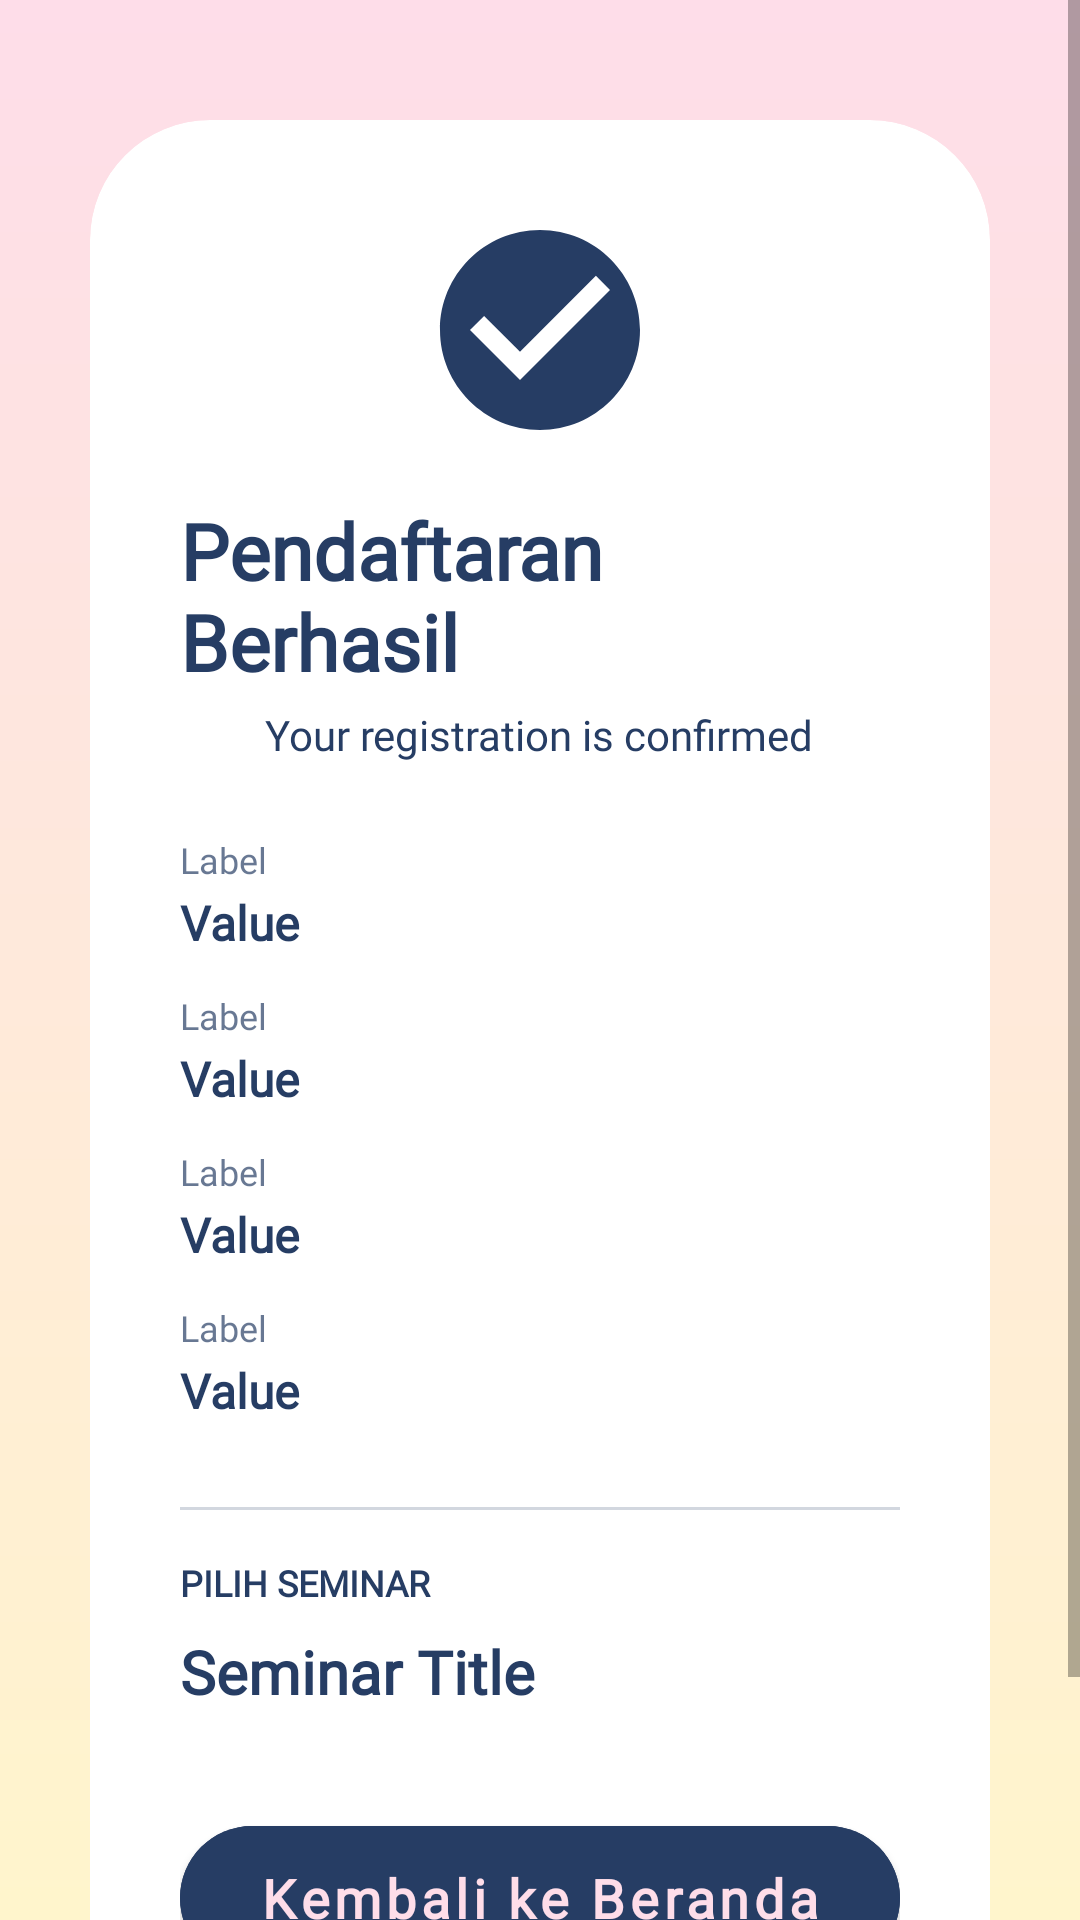

Where icons sit on this 1080*1920 app screen, as rect(x1, y1, x2, y2):
Success: rect(440, 230, 640, 430)
